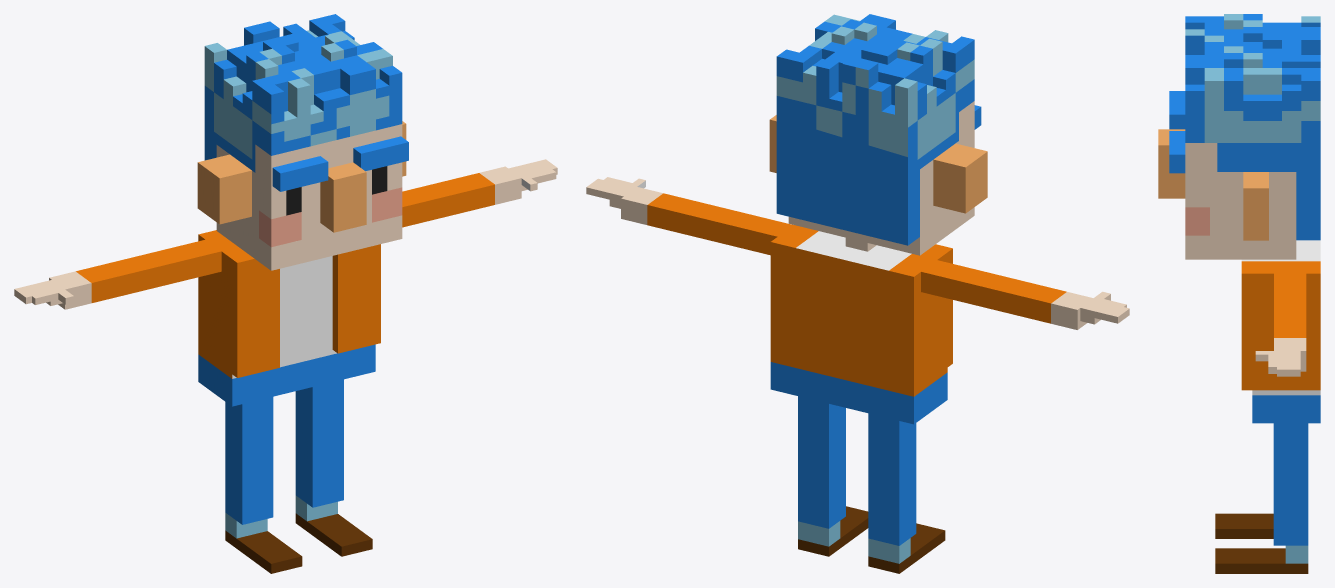
The model's file is player1.fbx.
The picture shows the model from 3 angles, left to right: view 1: azimuth 30°, elevation 25°; view 2: azimuth 150°, elevation 25°; view 3: azimuth 270°, elevation 25°; orthographic projection.
Parts seen in each view (by area): view 1: Group5, boday1, Group1, Group3, Group2, Group4, Group7, Group8, Group6; view 2: Group5, boday1, Group1, Group3, Group2; view 3: Group5, boday1, Group1, Group2, Group4, Group8, Group7.
Part boxes in pixels (x1=…): Group5: x1=197, y1=14, x2=406, y2=270; boday1: x1=198, y1=230, x2=380, y2=406; Group1: x1=225, y1=379, x2=372, y2=573; Group3: x1=14, y1=239, x2=221, y2=309; Group2: x1=402, y1=159, x2=557, y2=227; Group4: x1=320, y1=162, x2=366, y2=232; Group7: x1=272, y1=156, x2=328, y2=191; Group8: x1=353, y1=136, x2=408, y2=171; Group6: x1=286, y1=166, x2=387, y2=215; Group5: x1=769, y1=14, x2=987, y2=255; boday1: x1=770, y1=225, x2=952, y2=424; Group1: x1=798, y1=396, x2=945, y2=573; Group3: x1=921, y1=260, x2=1129, y2=329; Group2: x1=586, y1=177, x2=793, y2=255; Group5: x1=1185, y1=14, x2=1320, y2=259; boday1: x1=1241, y1=240, x2=1320, y2=423; Group1: x1=1215, y1=423, x2=1308, y2=573; Group2: x1=1255, y1=273, x2=1306, y2=376; Group4: x1=1158, y1=129, x2=1185, y2=198; Group8: x1=1169, y1=131, x2=1185, y2=173; Group7: x1=1169, y1=91, x2=1185, y2=129.
Bounding box in the file's own units: 274 × 247 × 71.53.
